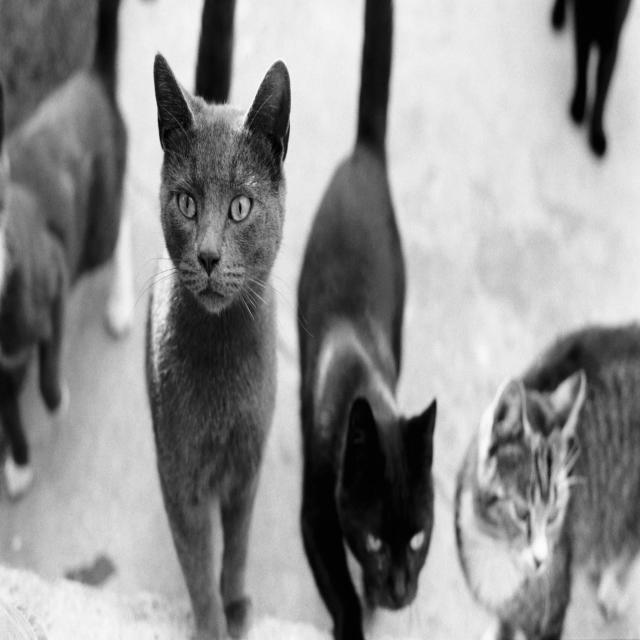cat: (298, 0, 436, 640), (146, 53, 291, 638), (0, 0, 134, 498), (455, 324, 640, 638)
